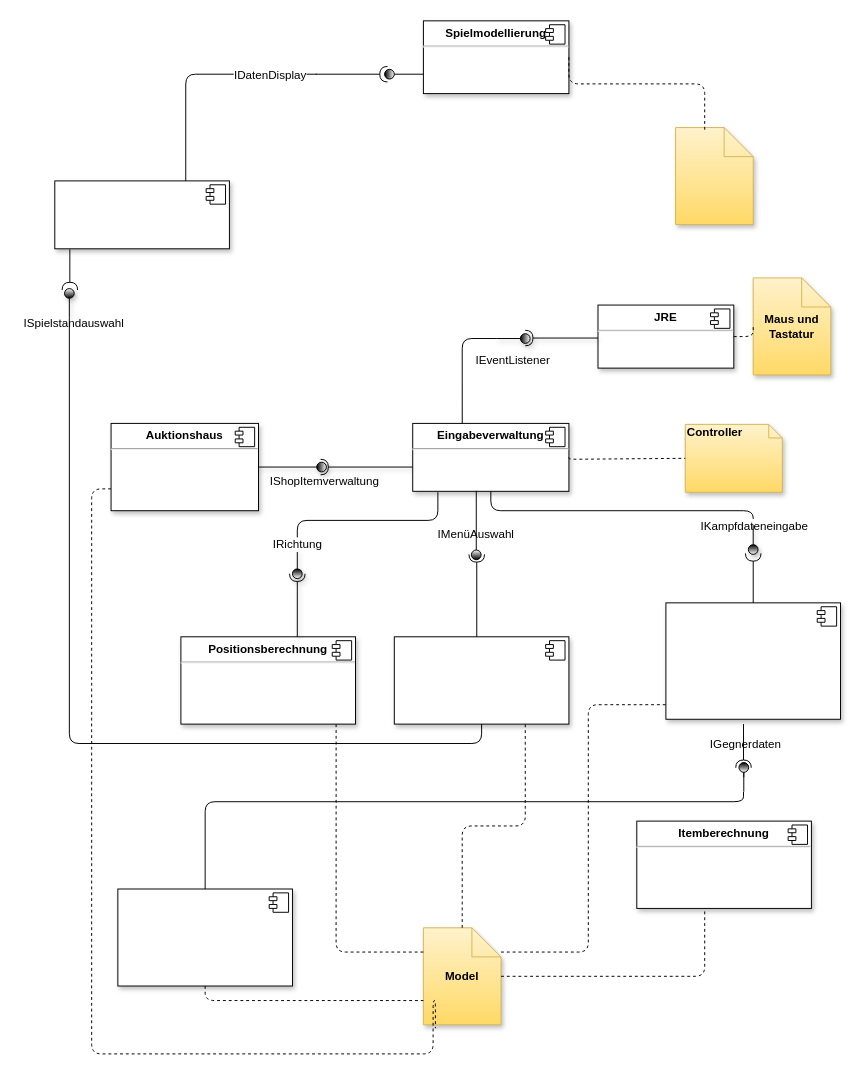
This 863x1072 diagram has some shape labels left out. Each missing label, with the centre of its shape:
Gegnerkoordination: the point at 205,938
Kampfdatenberechnung: the point at 753,662
Menü: the point at 482,681
Spieldatenverwaltung: the point at 142,216
View: the point at 715,177
